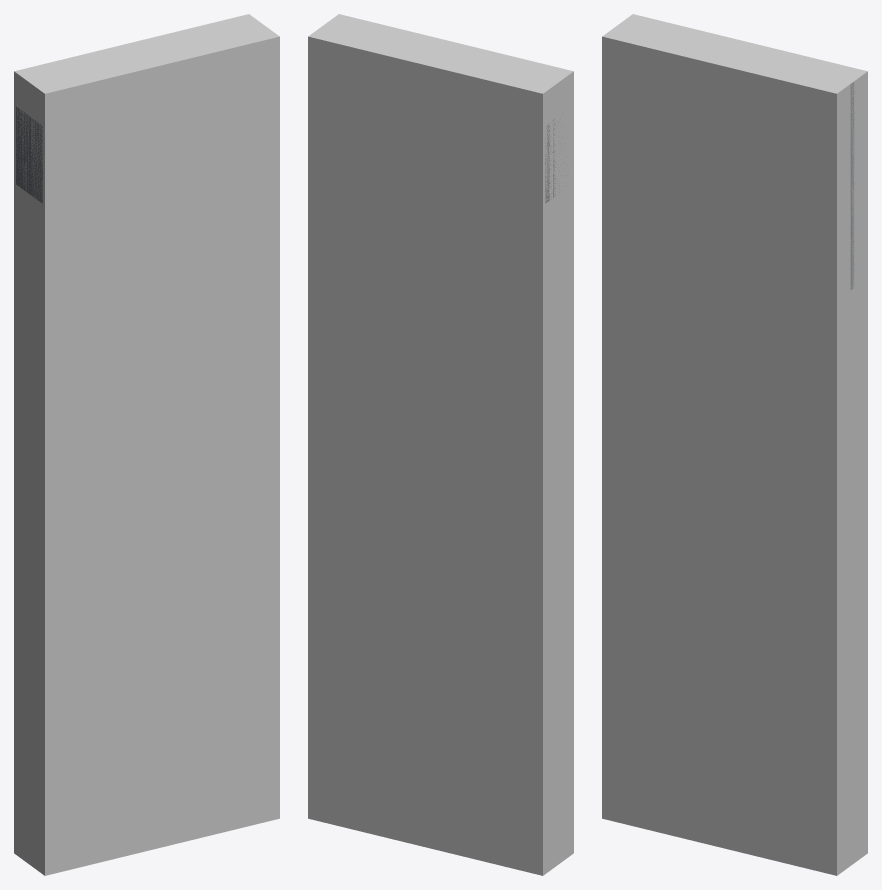
The model's file is FMS_Tool_Axe.fbx.
3 renders of one model, left to right at view 1: azimuth 30°, elevation 25°; view 2: azimuth 150°, elevation 25°; view 3: azimuth 330°, elevation 25°, orthographic.
Parts seen in each view (by area): view 1: FMS_Tool_Axe_Col, FMS_Tool_Axe_LOD0; view 2: FMS_Tool_Axe_Col; view 3: FMS_Tool_Axe_Col, FMS_Tool_Axe_LOD0.
Part boxes in pixels (x1,y1,x2,y2): FMS_Tool_Axe_Col: (14, 14, 279, 875); FMS_Tool_Axe_LOD0: (16, 106, 42, 203); FMS_Tool_Axe_Col: (308, 14, 573, 875); FMS_Tool_Axe_Col: (602, 14, 867, 875); FMS_Tool_Axe_LOD0: (850, 82, 854, 289).
Size of what is drawn, in the model's own units: 0.22 by 0.7 by 0.05.
1 material, 1 textured.
